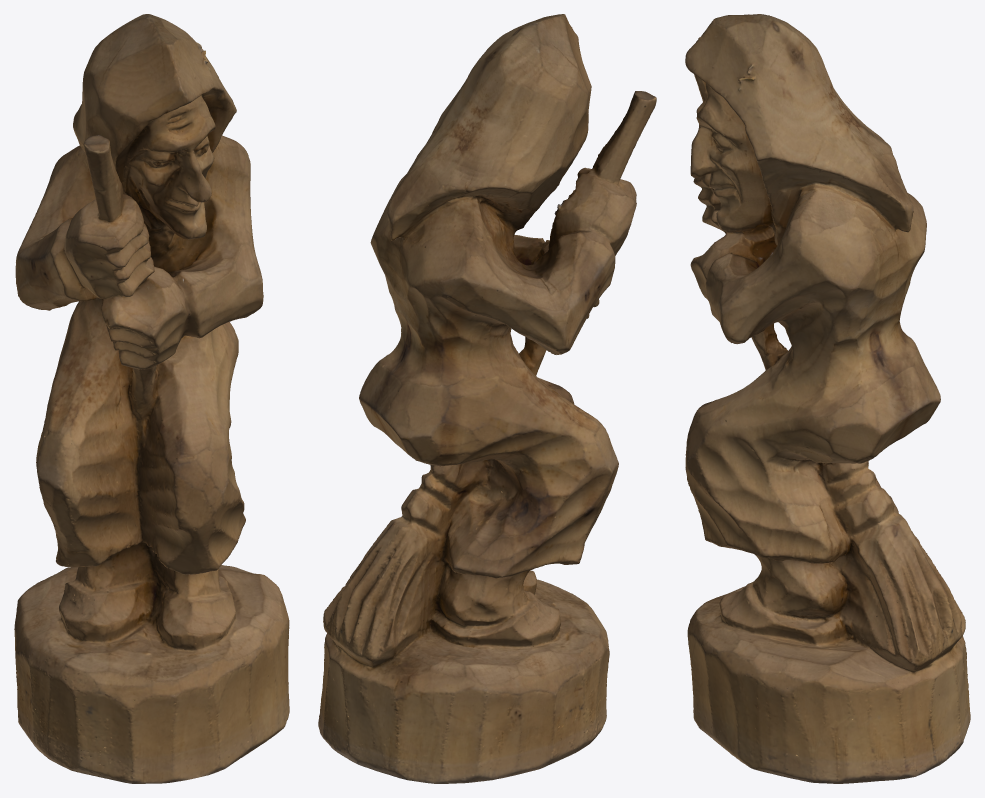
Rendered from MPLW_E_1485_lowpoly.glb.
3 renders of one model, left to right at view 1: azimuth 30°, elevation 25°; view 2: azimuth 150°, elevation 25°; view 3: azimuth 270°, elevation 25°, orthographic. The views are drawn at different scales.
Visible parts, largest first — view 1: MPLW_E_1485_lowpoly; view 2: MPLW_E_1485_lowpoly; view 3: MPLW_E_1485_lowpoly.
Boxes of the visible parts, bbox=[...] form: MPLW_E_1485_lowpoly: bbox=[14, 14, 289, 783]; MPLW_E_1485_lowpoly: bbox=[318, 14, 656, 783]; MPLW_E_1485_lowpoly: bbox=[685, 14, 970, 783].
Bounding box in the file's own units: 0.1174 × 0.3146 × 0.1173.
1 material, 1 textured.
